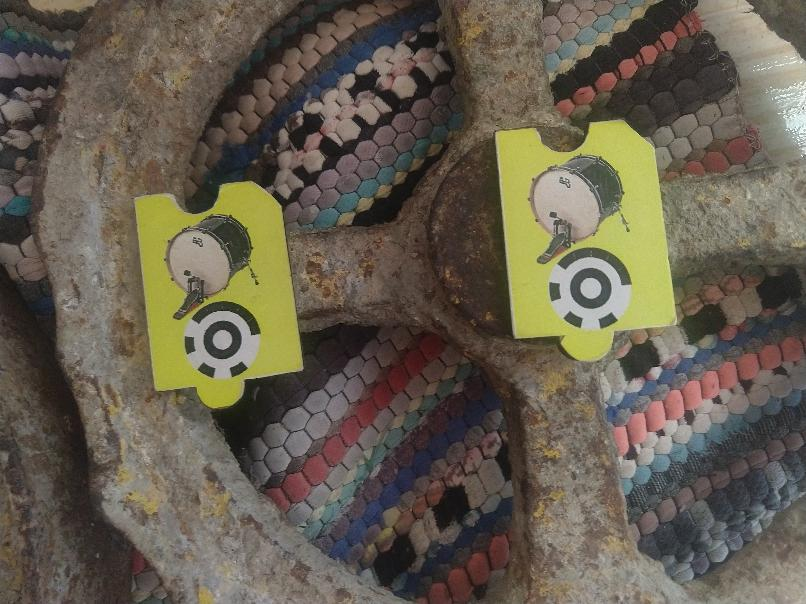bumbo: (490, 114, 684, 365), (129, 174, 306, 411)
